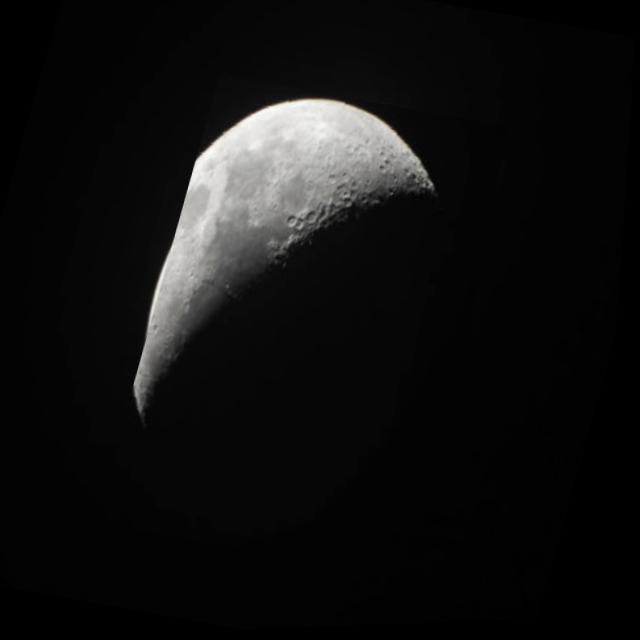moon: (101, 68, 551, 584)
